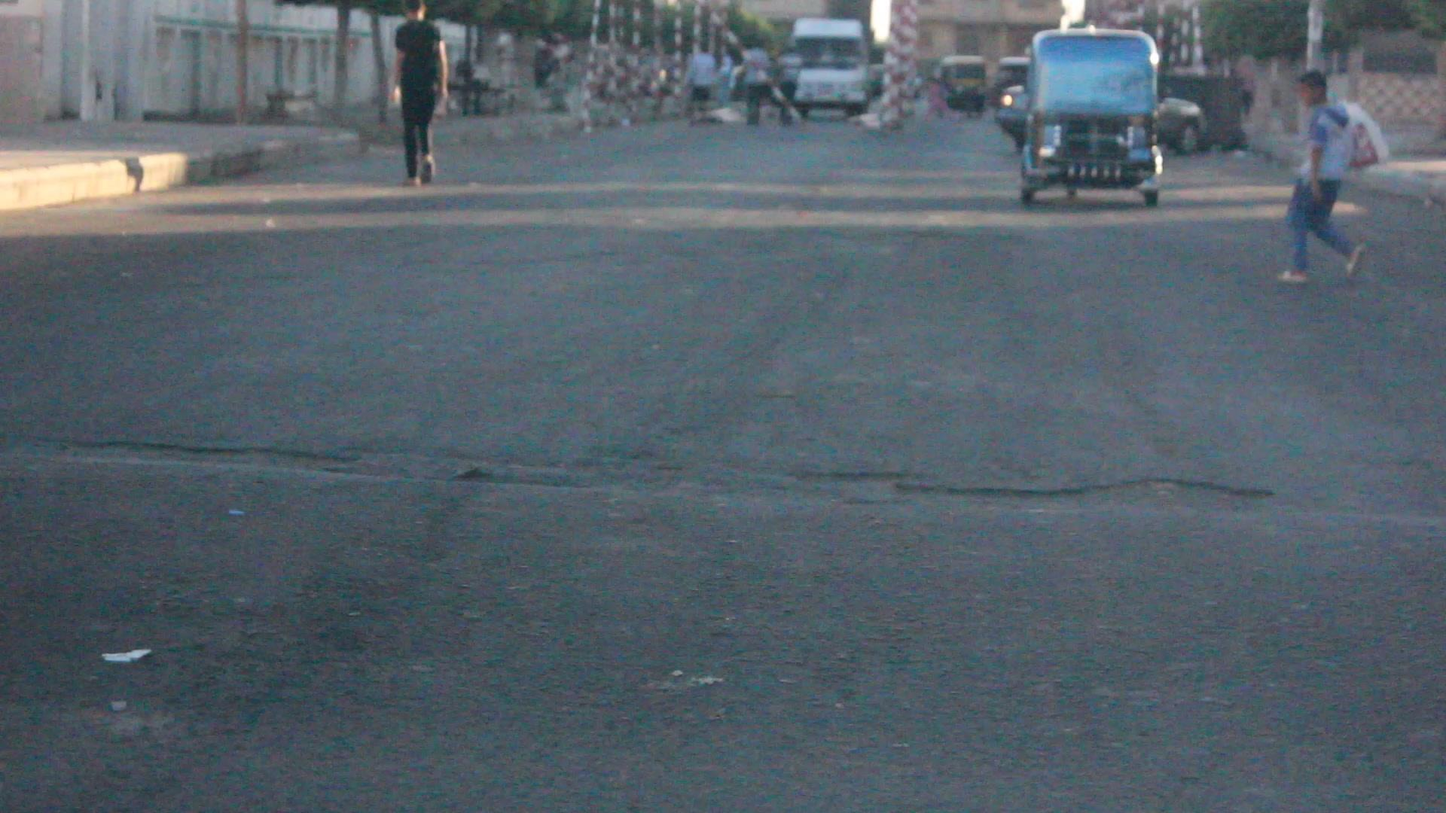Pothole: (60, 429, 471, 516), (781, 459, 1278, 529), (828, 218, 972, 260)
